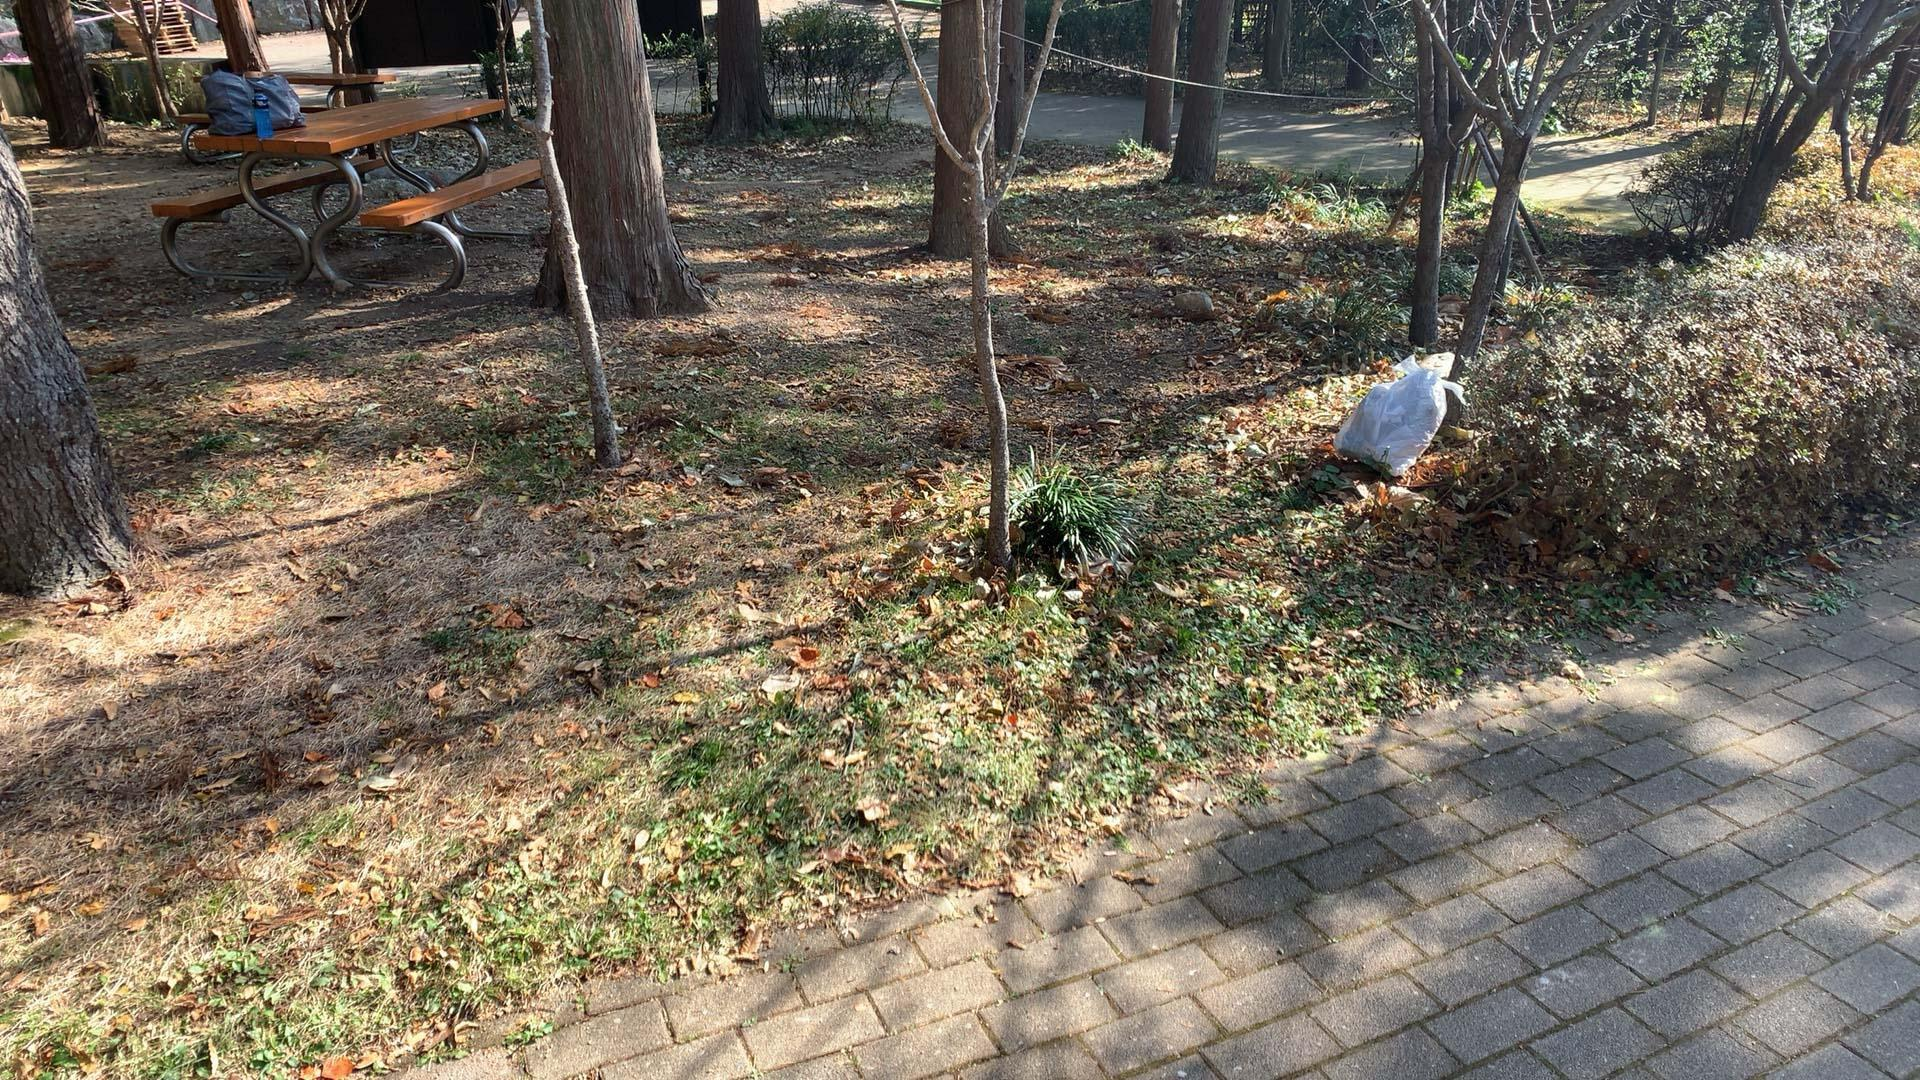white_bag: (1325, 351, 1472, 487)
